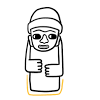Stone Statue: (16, 3, 67, 95)
